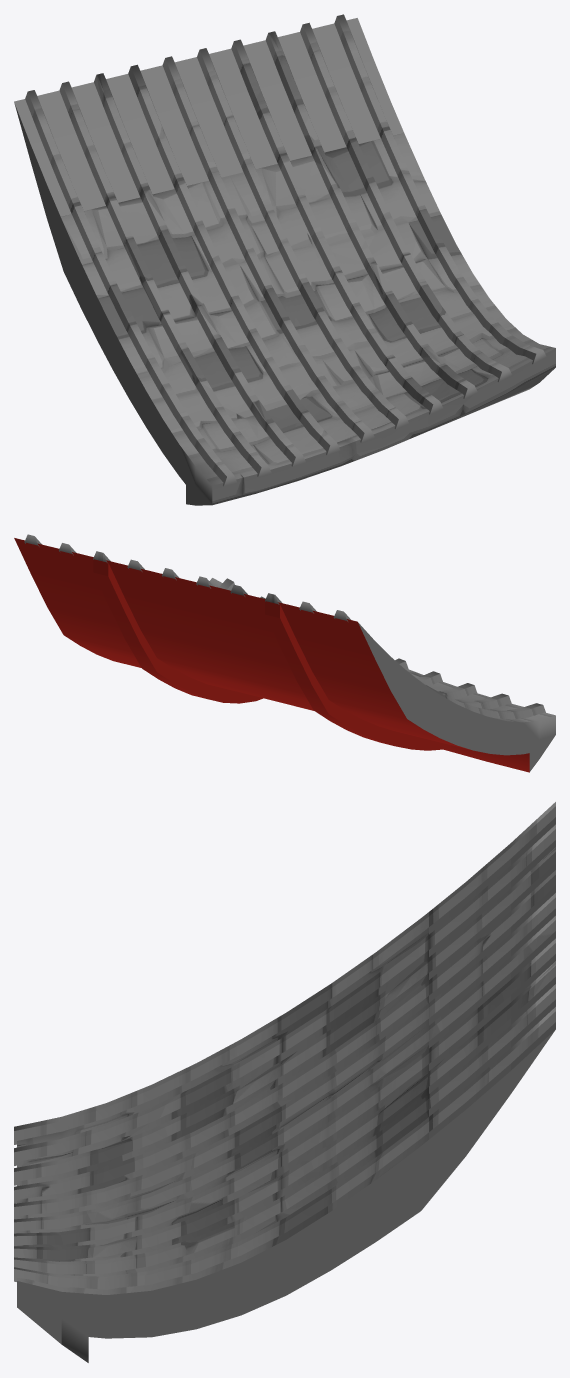
The model's file is SM_Bld_Kawara_M_Tip_Near_01.fbx.
3 renders of one model, top to bottom at view 1: azimuth 30°, elevation 25°; view 2: azimuth 150°, elevation 25°; view 3: azimuth 270°, elevation 25°, orthographic. The views are drawn at different scales.
Visible parts, largest first — view 1: SM_Bld_Kawara_M_Tip_Near_01; view 2: SM_Bld_Kawara_M_Tip_Near_01; view 3: SM_Bld_Kawara_M_Tip_Near_01.
Boxes of the visible parts, x1,y1,x2,y2 form: SM_Bld_Kawara_M_Tip_Near_01: [14, 14, 555, 505]; SM_Bld_Kawara_M_Tip_Near_01: [14, 534, 555, 772]; SM_Bld_Kawara_M_Tip_Near_01: [14, 802, 555, 1362].
Bounding box in the file's own units: 5 × 3.94 × 5.03.
